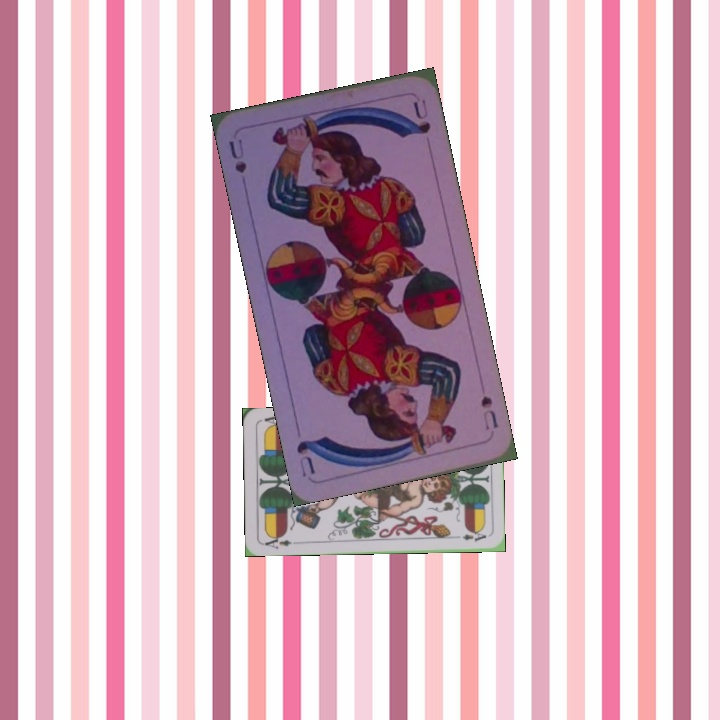EA: (260, 531, 294, 551)
SU: (224, 135, 249, 176), (477, 391, 501, 433)
